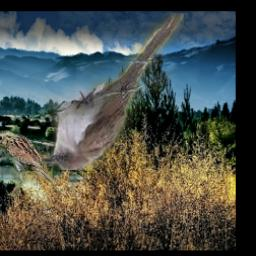Cuckoo: (42, 13, 184, 170)
Sparrow: (0, 131, 53, 197)
